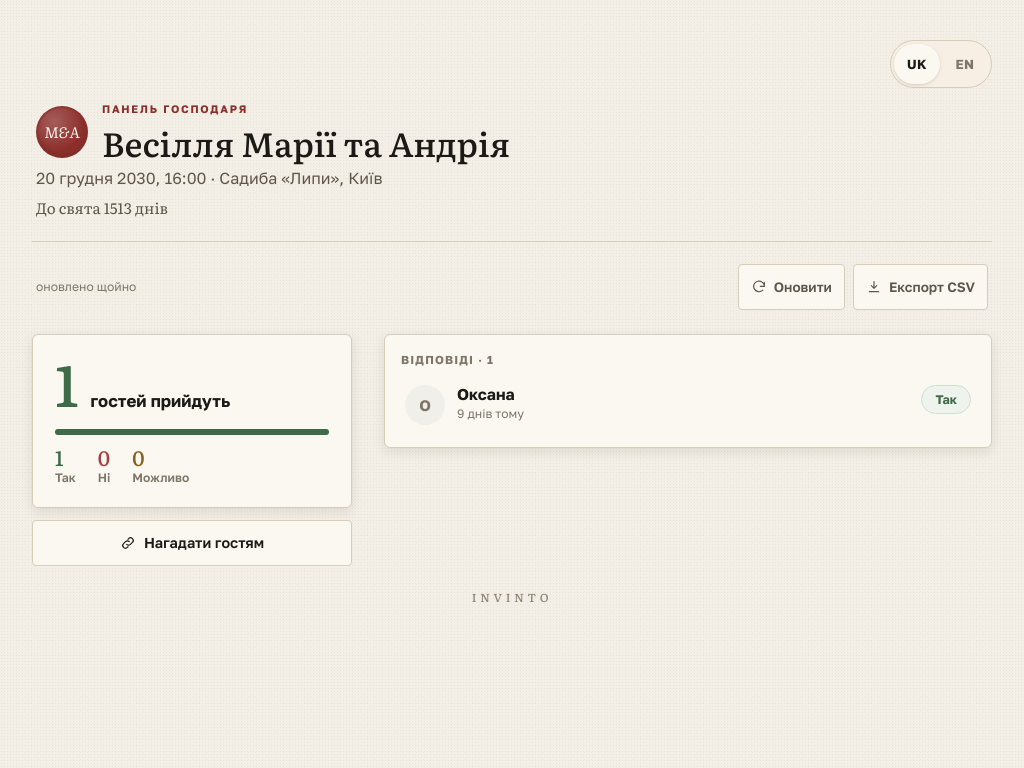
remind guests (adr-019 §8.3) › copies the public link once someone has replied
The width and height of the screenshot is (1024, 768).
Click the button "Нагадати гостям" at coordinates (192, 543), box left=32, top=520, right=352, bottom=566
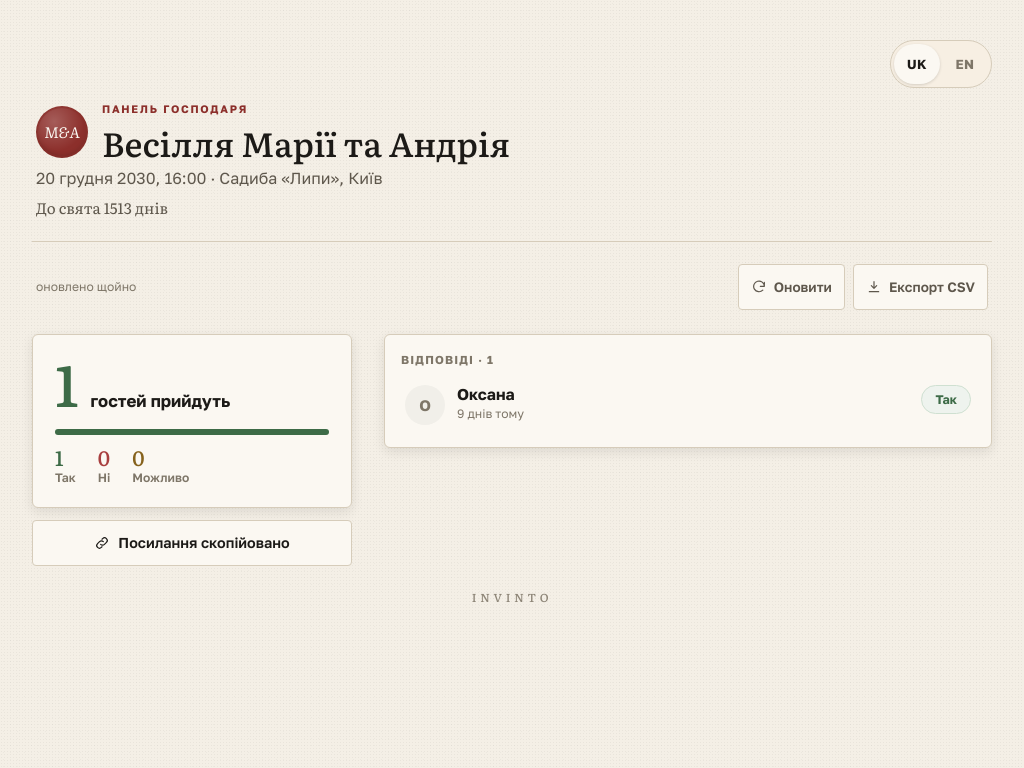
Expected: the button "Посилання скопійовано" is shown, left=32, top=520, right=352, bottom=566
